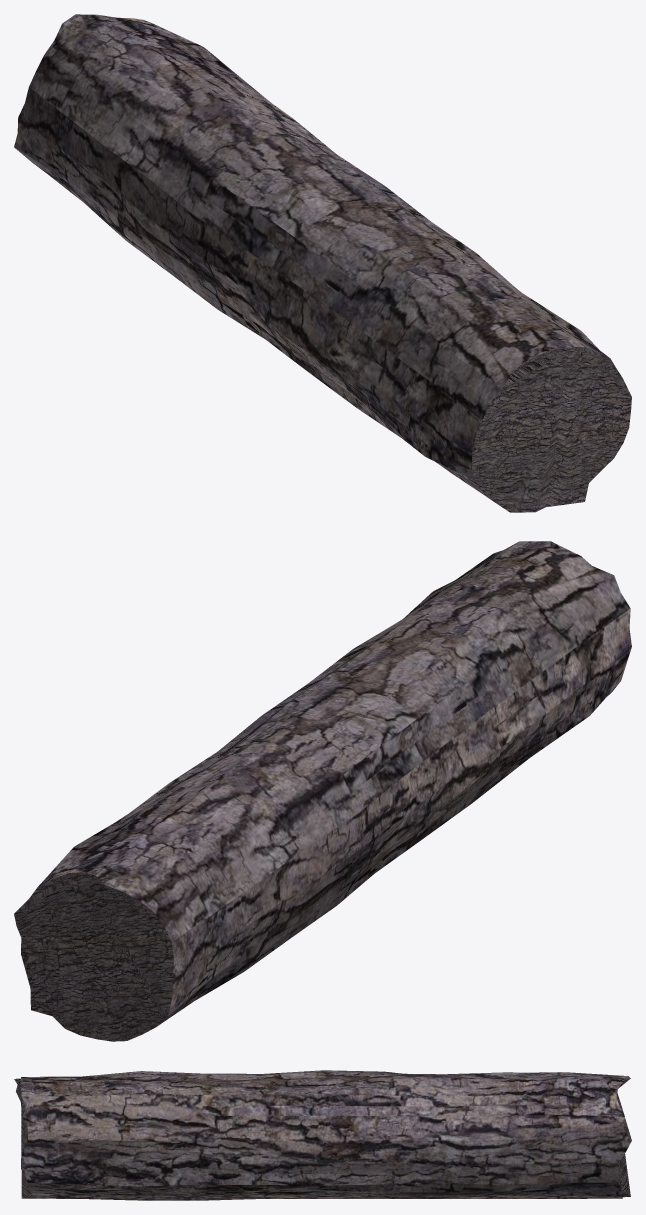
File: log.fbx
3 views of the same model, one above another, from view 1: azimuth 30°, elevation 25°; view 2: azimuth 150°, elevation 25°; view 3: azimuth 270°, elevation 25° (orthographic). The views are drawn at different scales.
Visible parts, largest first — view 1: log.001; view 2: log.001; view 3: log.001.
Part boxes in pixels (x1,y1,x2,y2): log.001: (14,14,631,512); log.001: (14,541,631,1041); log.001: (14,1070,631,1200).
Bounding box in the file's own units: 0.8628 × 0.8648 × 4.07.
Materials: 1 (1 with a texture image).
